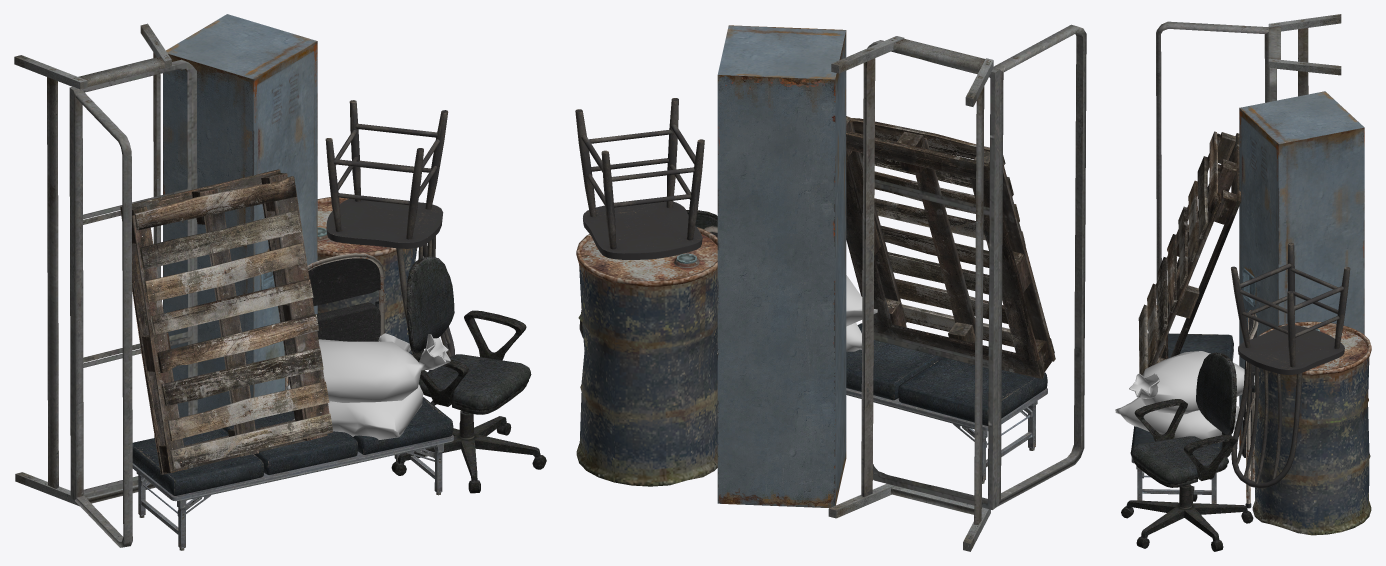
Rendered from Barricade3.fbx.
3 renders of one model, left to right at view 1: azimuth 30°, elevation 25°; view 2: azimuth 150°, elevation 25°; view 3: azimuth 270°, elevation 25°, orthographic. The views are drawn at different scales.
Visible parts, largest first — view 1: LOD_1_Group_0_Sub_4__sm26_003_Palette01A_A_Mat, LOD_1_Group_0_Sub_8__sm30_051_Locker01A_A_Mat1, LOD_1_Group_0_Sub_6__sm30_002_OfficeSofa01A_A_Mat1, LOD_1_Group_0_Sub_7__sm30_126_BenchA01A_A_Mat1, LOD_1_Group_0_Sub_3__sm30_057_OfficeChair_A_Mat, LOD_1_Group_0_Sub_2__sm30_115_cafeChair01A_A_Mat, LOD_1_Group_0_Sub_1__sm26_046_Sandbag04A_A_Mat__Env_default, LOD_1_Group_0_Sub_9__sm30_153_FoldingChair01A_A_Mat, LOD_1_Group_0_Sub_5__sm26_013_oilCan01A_A_Mat; view 2: LOD_1_Group_0_Sub_8__sm30_051_Locker01A_A_Mat1, LOD_1_Group_0_Sub_5__sm26_013_oilCan01A_A_Mat, LOD_1_Group_0_Sub_6__sm30_002_OfficeSofa01A_A_Mat1, LOD_1_Group_0_Sub_4__sm26_003_Palette01A_A_Mat, LOD_1_Group_0_Sub_2__sm30_115_cafeChair01A_A_Mat, LOD_1_Group_0_Sub_7__sm30_126_BenchA01A_A_Mat1, LOD_1_Group_0_Sub_1__sm26_046_Sandbag04A_A_Mat__Env_default; view 3: LOD_1_Group_0_Sub_8__sm30_051_Locker01A_A_Mat1, LOD_1_Group_0_Sub_5__sm26_013_oilCan01A_A_Mat, LOD_1_Group_0_Sub_2__sm30_115_cafeChair01A_A_Mat, LOD_1_Group_0_Sub_3__sm30_057_OfficeChair_A_Mat, LOD_1_Group_0_Sub_4__sm26_003_Palette01A_A_Mat, LOD_1_Group_0_Sub_6__sm30_002_OfficeSofa01A_A_Mat1, LOD_1_Group_0_Sub_1__sm26_046_Sandbag04A_A_Mat__Env_default, LOD_1_Group_0_Sub_7__sm30_126_BenchA01A_A_Mat1, LOD_1_Group_0_Sub_9__sm30_153_FoldingChair01A_A_Mat.
Part boxes in pixels (left/top/right/bottom): LOD_1_Group_0_Sub_4__sm26_003_Palette01A_A_Mat: left=120, top=169, right=333, bottom=474; LOD_1_Group_0_Sub_8__sm30_051_Locker01A_A_Mat1: left=163, top=14, right=317, bottom=417; LOD_1_Group_0_Sub_6__sm30_002_OfficeSofa01A_A_Mat1: left=14, top=23, right=197, bottom=547; LOD_1_Group_0_Sub_7__sm30_126_BenchA01A_A_Mat1: left=132, top=397, right=453, bottom=550; LOD_1_Group_0_Sub_3__sm30_057_OfficeChair_A_Mat: left=391, top=256, right=546, bottom=493; LOD_1_Group_0_Sub_2__sm30_115_cafeChair01A_A_Mat: left=325, top=100, right=454, bottom=370; LOD_1_Group_0_Sub_1__sm26_046_Sandbag04A_A_Mat__Env_default: left=286, top=333, right=450, bottom=439; LOD_1_Group_0_Sub_9__sm30_153_FoldingChair01A_A_Mat: left=284, top=253, right=385, bottom=390; LOD_1_Group_0_Sub_5__sm26_013_oilCan01A_A_Mat: left=317, top=196, right=417, bottom=354; LOD_1_Group_0_Sub_8__sm30_051_Locker01A_A_Mat1: left=717, top=25, right=846, bottom=508; LOD_1_Group_0_Sub_5__sm26_013_oilCan01A_A_Mat: left=576, top=227, right=717, bottom=486; LOD_1_Group_0_Sub_6__sm30_002_OfficeSofa01A_A_Mat1: left=828, top=24, right=1086, bottom=551; LOD_1_Group_0_Sub_4__sm26_003_Palette01A_A_Mat: left=846, top=116, right=1055, bottom=378; LOD_1_Group_0_Sub_2__sm30_115_cafeChair01A_A_Mat: left=575, top=98, right=704, bottom=337; LOD_1_Group_0_Sub_7__sm30_126_BenchA01A_A_Mat1: left=846, top=323, right=1047, bottom=483; LOD_1_Group_0_Sub_1__sm26_046_Sandbag04A_A_Mat__Env_default: left=846, top=275, right=877, bottom=351; LOD_1_Group_0_Sub_8__sm30_051_Locker01A_A_Mat1: left=1239, top=91, right=1364, bottom=453; LOD_1_Group_0_Sub_5__sm26_013_oilCan01A_A_Mat: left=1252, top=321, right=1371, bottom=535; LOD_1_Group_0_Sub_2__sm30_115_cafeChair01A_A_Mat: left=1231, top=242, right=1350, bottom=488; LOD_1_Group_0_Sub_3__sm30_057_OfficeChair_A_Mat: left=1121, top=352, right=1253, bottom=551; LOD_1_Group_0_Sub_4__sm26_003_Palette01A_A_Mat: left=1138, top=131, right=1241, bottom=375; LOD_1_Group_0_Sub_6__sm30_002_OfficeSofa01A_A_Mat1: left=1156, top=14, right=1341, bottom=305; LOD_1_Group_0_Sub_1__sm26_046_Sandbag04A_A_Mat__Env_default: left=1115, top=351, right=1254, bottom=439; LOD_1_Group_0_Sub_7__sm30_126_BenchA01A_A_Mat1: left=1131, top=333, right=1233, bottom=503; LOD_1_Group_0_Sub_9__sm30_153_FoldingChair01A_A_Mat: left=1242, top=310, right=1258, bottom=508.
Bounding box in the file's own units: 2.2 × 2.13 × 1.35.
